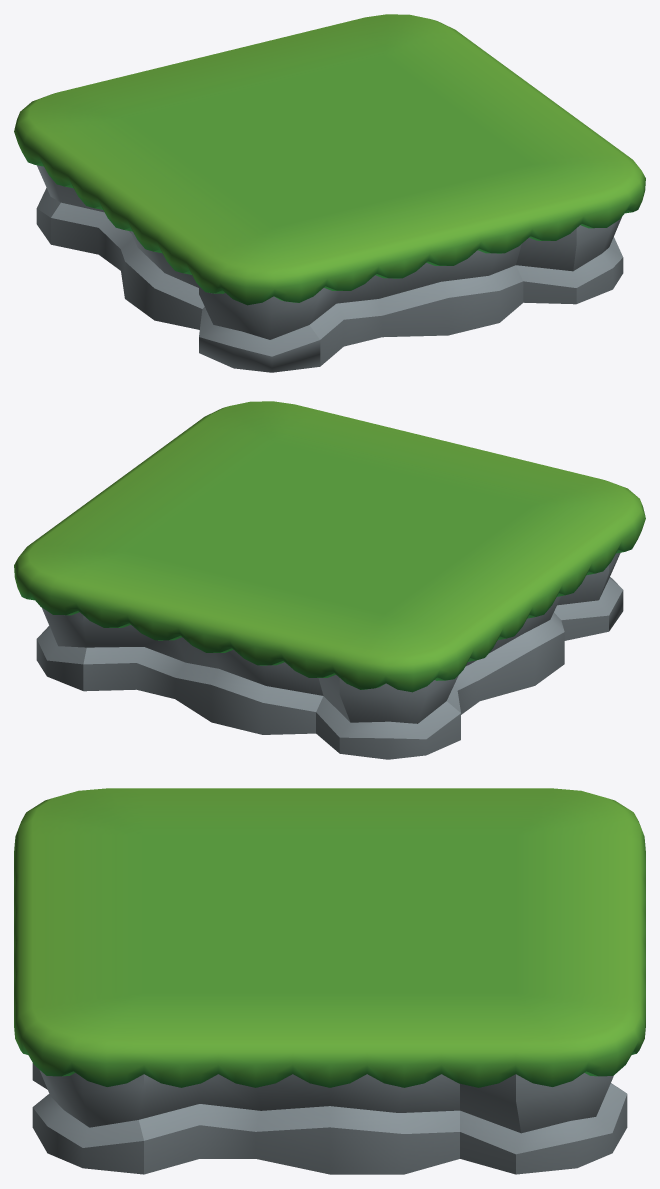
The model's file is Hill_8x8x2_Color1.gltf.
3 renders of one model, top to bottom at view 1: azimuth 30°, elevation 25°; view 2: azimuth 150°, elevation 25°; view 3: azimuth 270°, elevation 25°, orthographic. The views are drawn at different scales.
Parts seen in each view (by area): view 1: Hill_8x8x2_Color1; view 2: Hill_8x8x2_Color1; view 3: Hill_8x8x2_Color1.
Part boxes in pixels (left/top/right/bottom): Hill_8x8x2_Color1: left=14, top=14, right=645, bottom=372; Hill_8x8x2_Color1: left=14, top=401, right=645, bottom=759; Hill_8x8x2_Color1: left=14, top=788, right=645, bottom=1174.
Bounding box in the file's own units: 8.5 × 2 × 8.5.
Materials: 1 (1 with a texture image).
